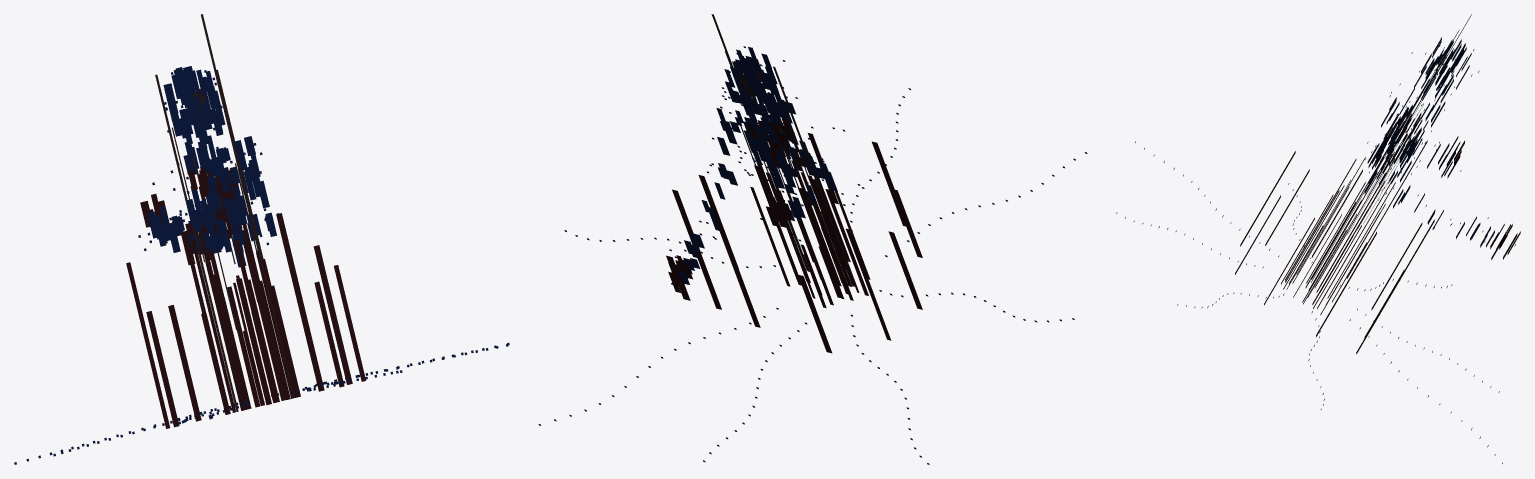
File: black_ice_kraken.glb
3 renders of one model, left to right at view 1: azimuth 30°, elevation 25°; view 2: azimuth 150°, elevation 25°; view 3: azimuth 270°, elevation 25°, orthographic. The views are drawn at different scales.
Parts seen in each view (by area): view 1: black_ice_kraken_inner, black_ice_kraken_shell, black_ice_kraken_dust; view 2: black_ice_kraken_inner, black_ice_kraken_shell, black_ice_kraken_dust; view 3: black_ice_kraken_inner, black_ice_kraken_shell, black_ice_kraken_dust.
Boxes of the visible parts, left/top/right/bottom form: black_ice_kraken_inner: left=126, top=14, right=365, bottom=428; black_ice_kraken_shell: left=147, top=66, right=276, bottom=267; black_ice_kraken_dust: left=14, top=68, right=509, bottom=464; black_ice_kraken_inner: left=666, top=14, right=922, bottom=353; black_ice_kraken_shell: left=677, top=47, right=837, bottom=284; black_ice_kraken_dust: left=538, top=46, right=1087, bottom=464; black_ice_kraken_inner: left=1235, top=14, right=1520, bottom=354; black_ice_kraken_shell: left=1364, top=37, right=1507, bottom=249; black_ice_kraken_dust: left=1116, top=44, right=1515, bottom=463.
Bounding box in the file's own units: 4.67 × 3.97 × 3.79.
